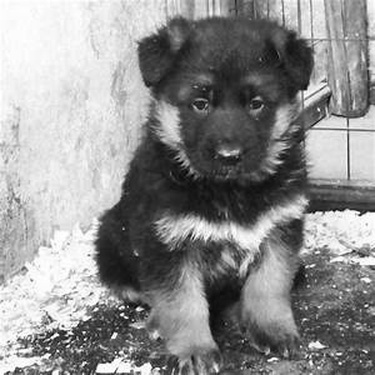dog: (74, 7, 330, 374)
